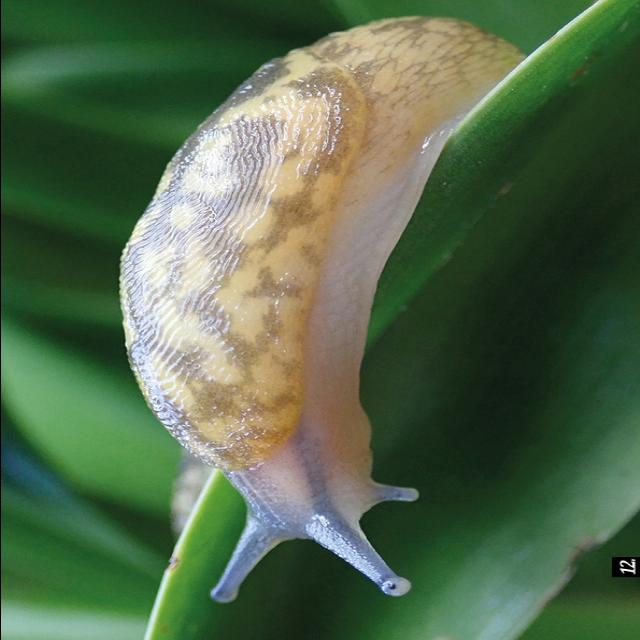slug: (111, 14, 535, 607)
